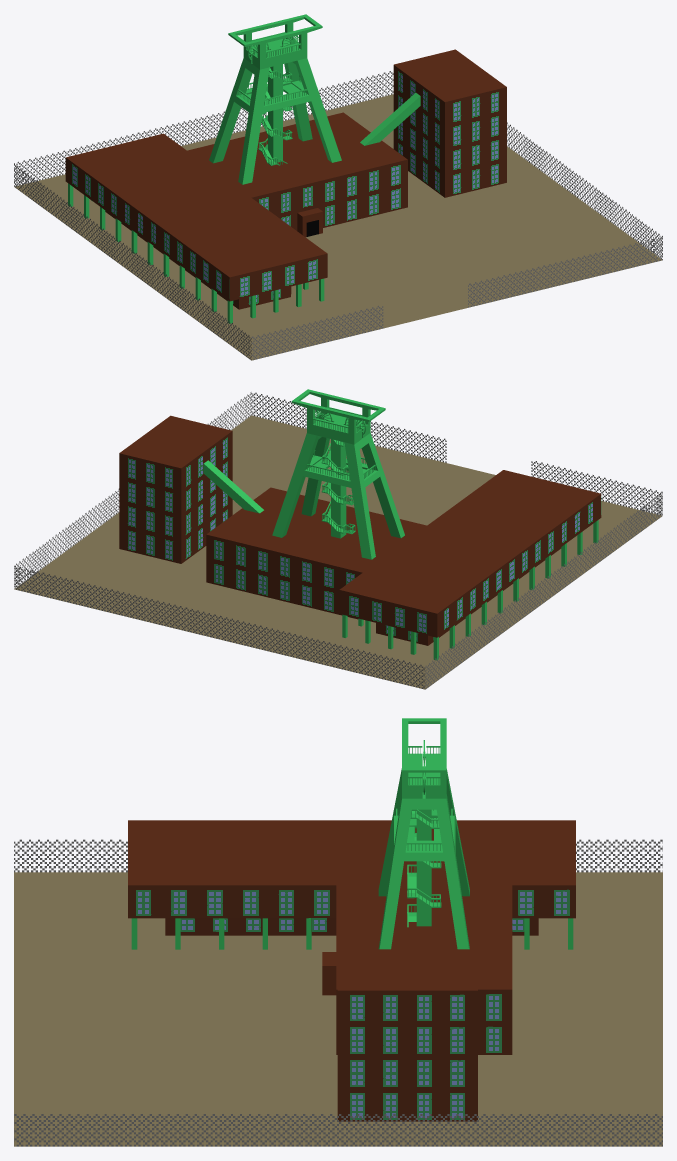
File: CoalMine.fbx
3 views of the same model, one above another, from view 1: azimuth 30°, elevation 25°; view 2: azimuth 150°, elevation 25°; view 3: azimuth 270°, elevation 25° (orthographic). The views are drawn at different scales.
Parts seen in each view (by area): view 1: CoalMine; view 2: CoalMine; view 3: CoalMine.
Part boxes in pixels (x1,y1,x2,y2): CoalMine: (14,14,662,360); CoalMine: (14,389,662,689); CoalMine: (14,718,662,1146).
Size of the model in its own units: 1800 by 747 by 1800.
